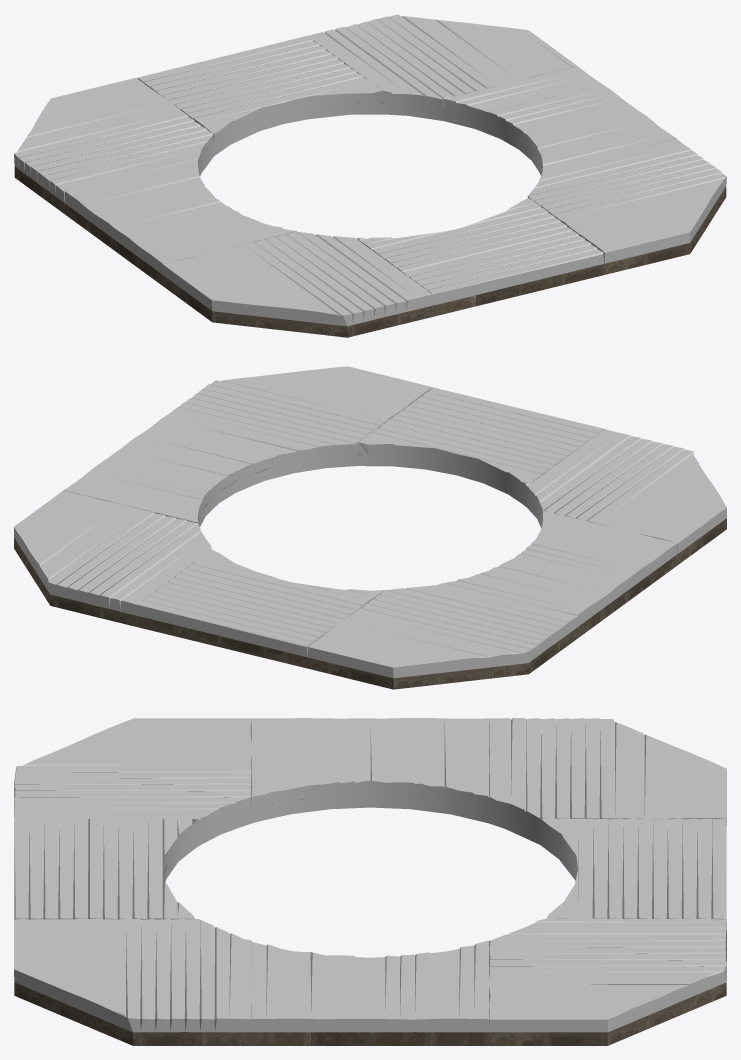
The model's file is SM_CastleTower_Floor_A_05.fbx.
3 renders of one model, top to bottom at view 1: azimuth 30°, elevation 25°; view 2: azimuth 150°, elevation 25°; view 3: azimuth 270°, elevation 25°, orthographic. The views are drawn at different scales.
Visible parts, largest first — view 1: SM_CastleTower_Floor_A_05_LOD0; view 2: SM_CastleTower_Floor_A_05_LOD0; view 3: SM_CastleTower_Floor_A_05_LOD0.
Part boxes in pixels (bbox=[...]): SM_CastleTower_Floor_A_05_LOD0: bbox=[14, 14, 726, 337]; SM_CastleTower_Floor_A_05_LOD0: bbox=[14, 366, 726, 689]; SM_CastleTower_Floor_A_05_LOD0: bbox=[14, 718, 726, 1045].
Bounding box in the file's own units: 1202 × 1201 × 51.03.
